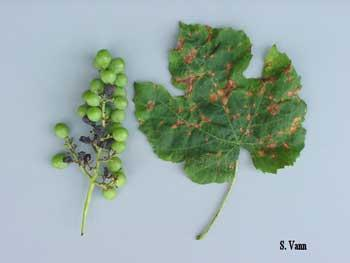grape leaf: (133, 10, 319, 202)
